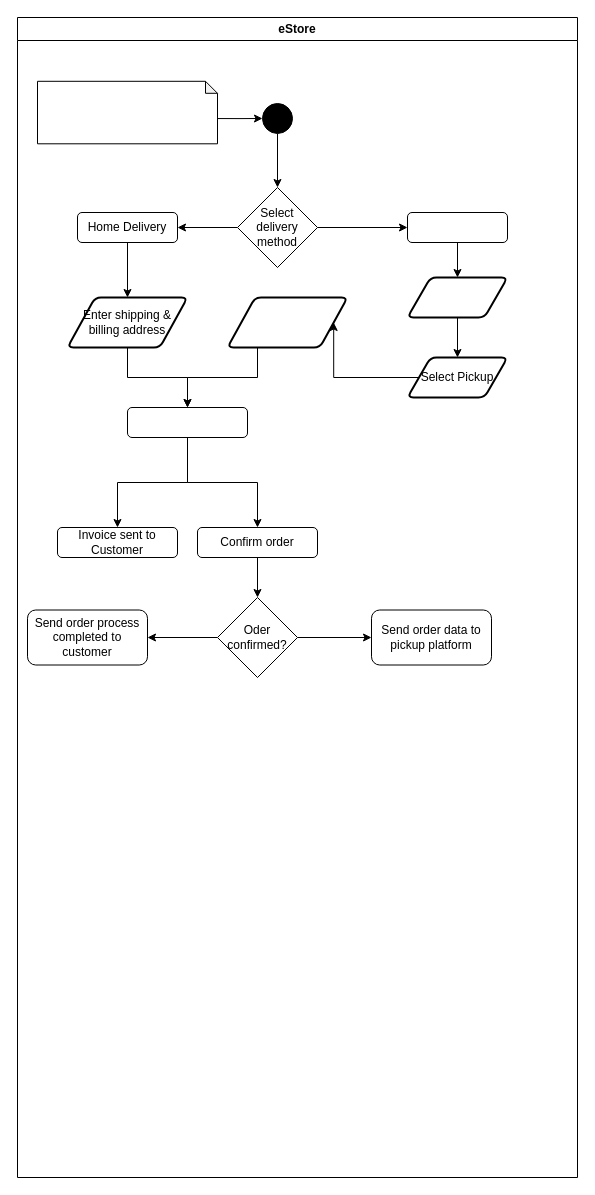
This 595x1195 diagram has some shape labels left out. The centre of each missing label's shape, as x and y in pixels:
Customer has added product to cart and is ready to complete his order: the point at 127,112
Enter Billing address: the point at 287,322
Input location: the point at 457,297
Pick up Store: the point at 457,227
Place Order: the point at 187,422
